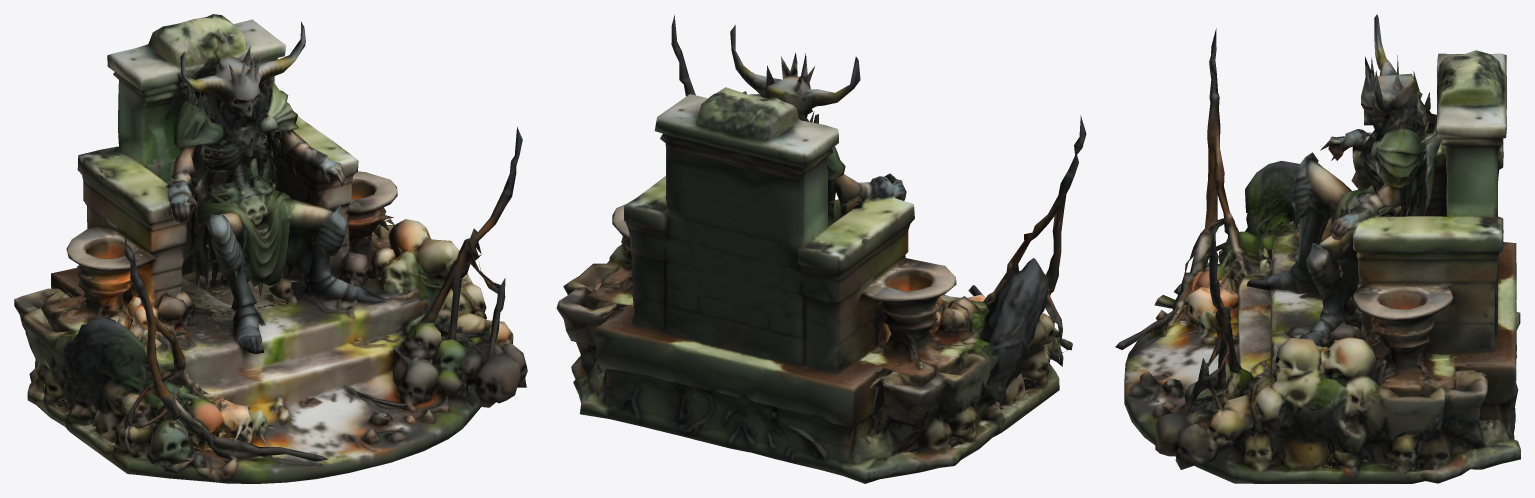
File: Warlord_Throne_Hall_1106211132_texture.glb
3 views of the same model, side by side, from view 1: azimuth 30°, elevation 25°; view 2: azimuth 150°, elevation 25°; view 3: azimuth 270°, elevation 25° (orthographic). The views are drawn at different scales.
Parts seen in each view (by area): view 1: Mesh1.0; view 2: Mesh1.0; view 3: Mesh1.0.
Boxes of the visible parts, x1=… form: Mesh1.0: x1=14, y1=14, x2=527, y2=483; Mesh1.0: x1=556, y1=14, x2=1086, y2=483; Mesh1.0: x1=1115, y1=14, x2=1520, y2=483.
Bounding box in the file's own units: 1.91 × 1.58 × 1.65.
1 material, 1 textured.
